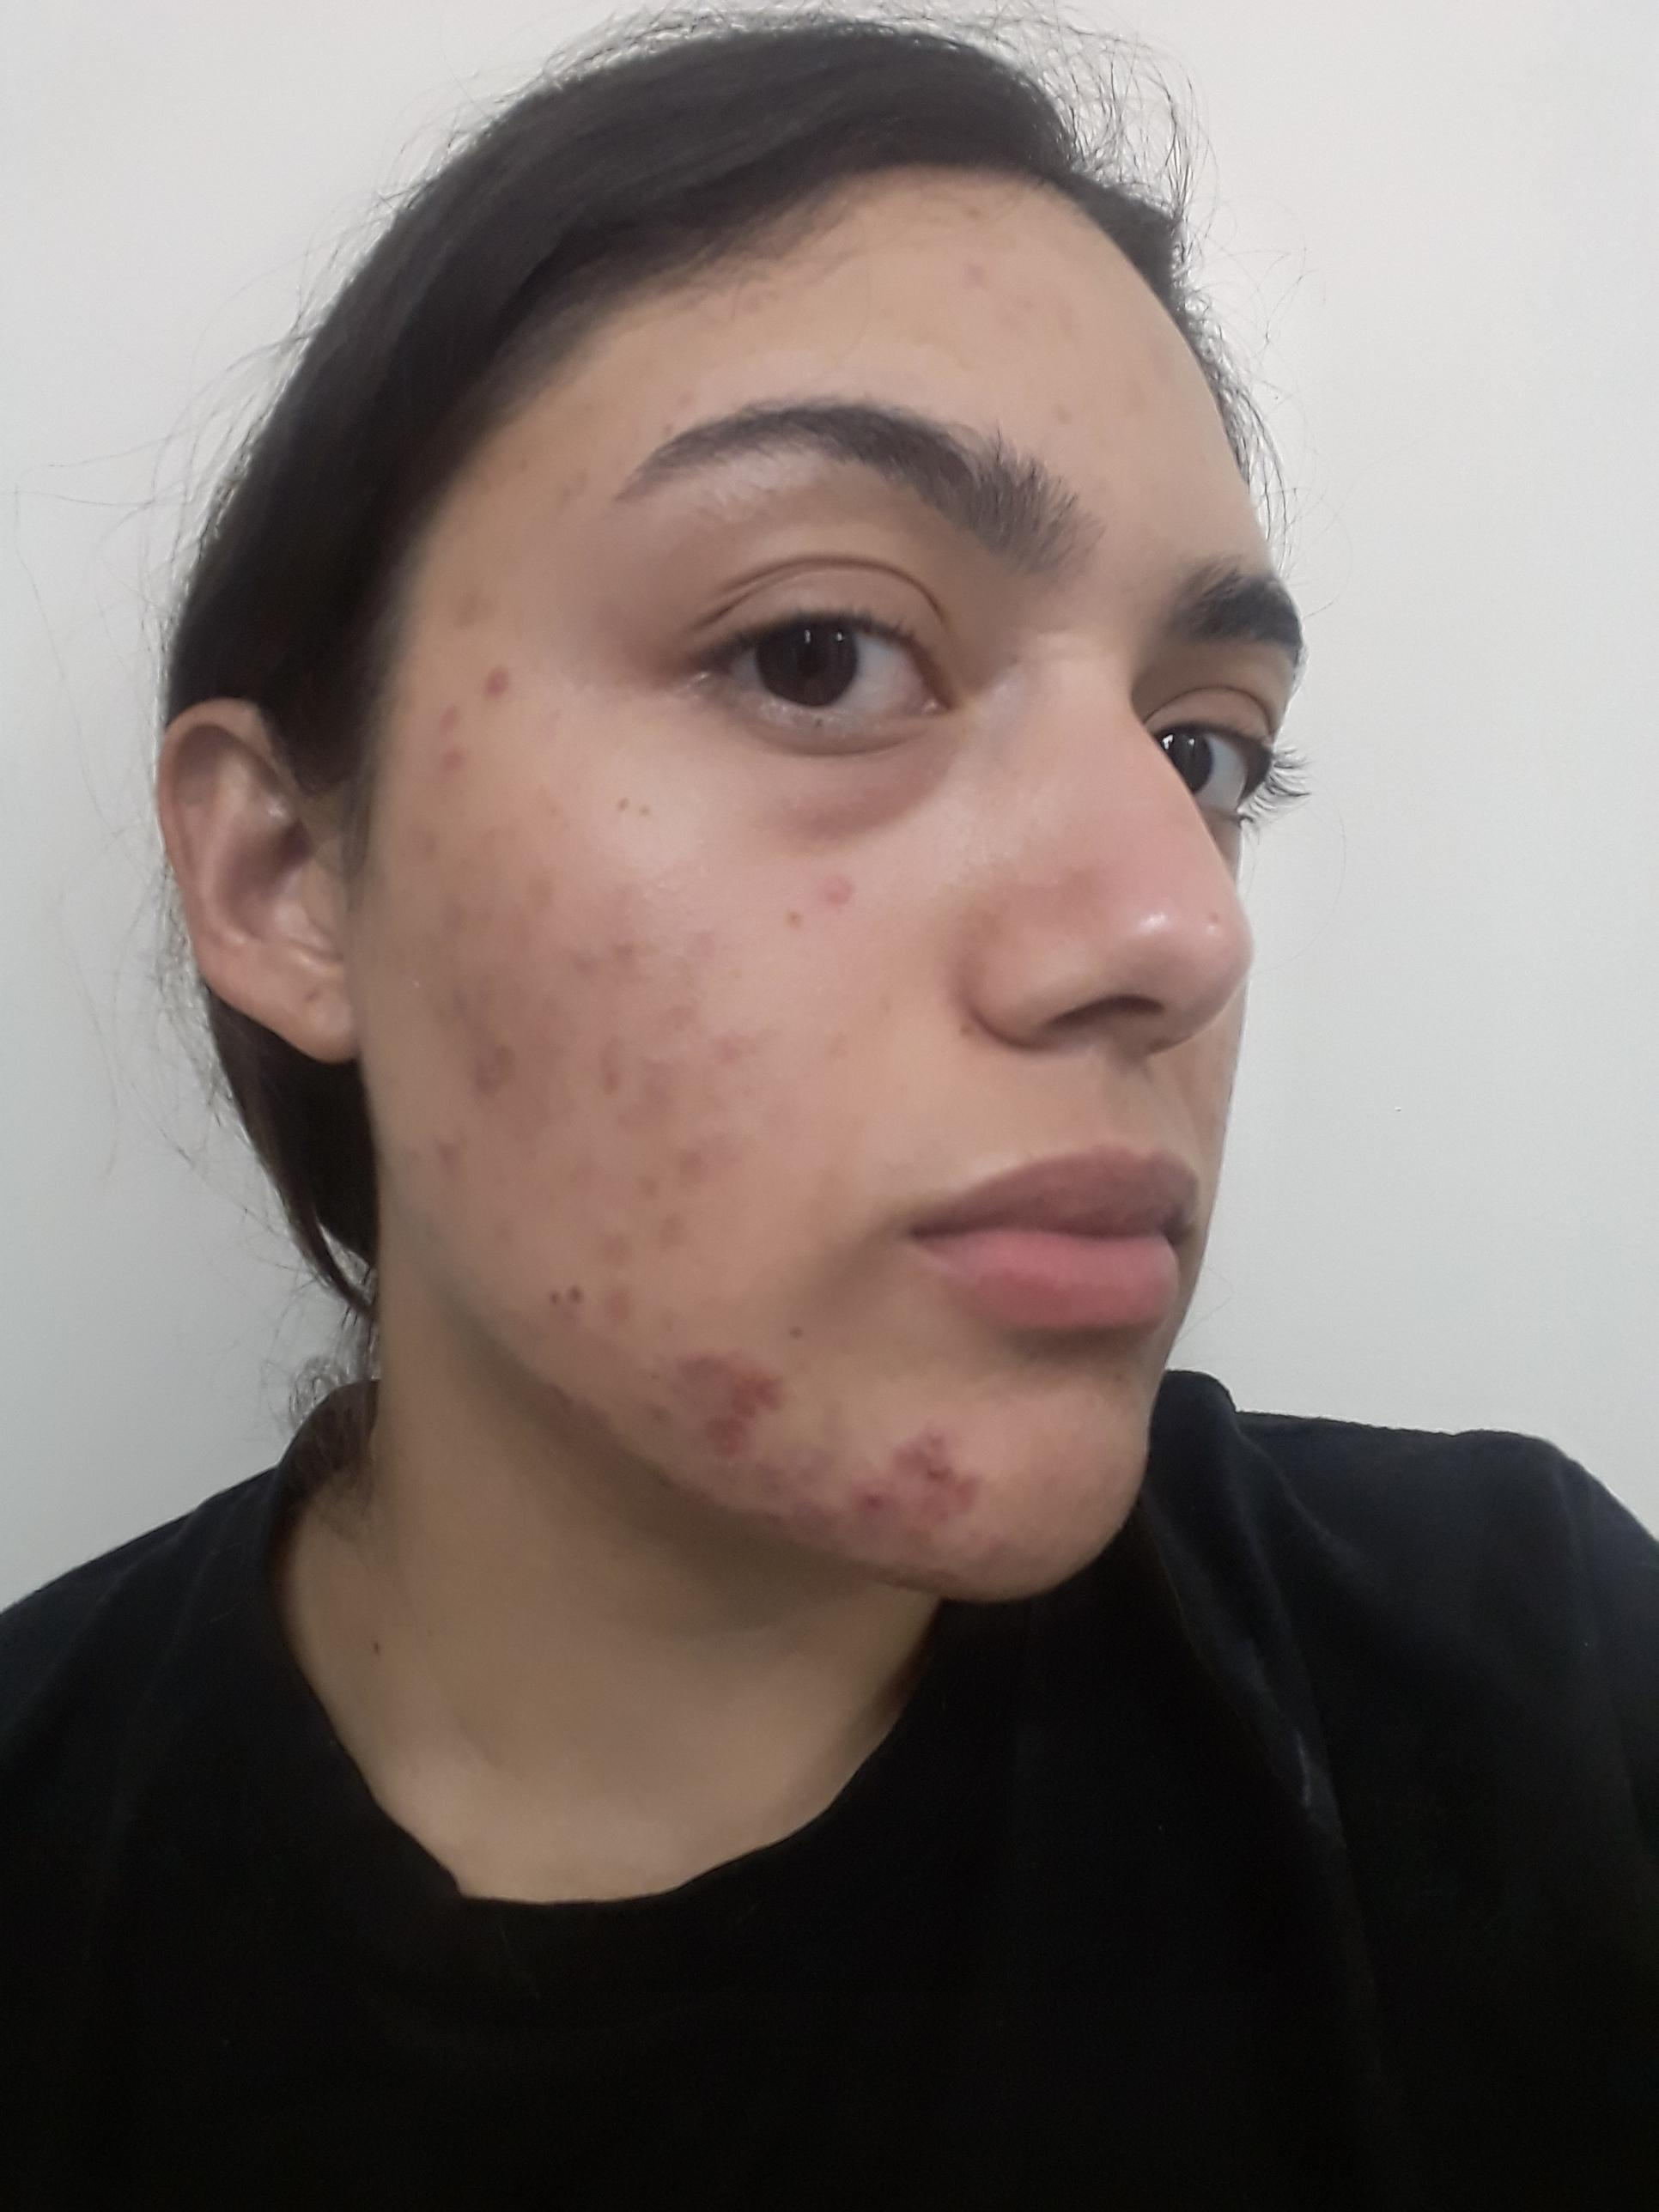Acne: (678, 1350, 793, 1465), (892, 1421, 1000, 1521), (755, 1446, 856, 1541), (619, 1346, 687, 1435), (950, 1507, 1019, 1592), (423, 982, 511, 1038), (835, 1472, 910, 1529), (460, 1043, 535, 1097), (666, 1143, 734, 1200), (885, 1512, 950, 1568), (580, 1043, 641, 1101), (594, 925, 660, 972), (946, 244, 1004, 296), (1039, 385, 1089, 442), (455, 575, 507, 629), (413, 1120, 483, 1160), (816, 867, 868, 916), (653, 1214, 704, 1263), (556, 937, 603, 986), (622, 1155, 673, 1200), (594, 1224, 645, 1266), (657, 996, 708, 1038), (479, 664, 525, 707), (526, 874, 565, 925), (598, 1285, 648, 1322), (430, 897, 474, 937), (430, 744, 483, 775), (709, 1031, 753, 1064), (772, 907, 812, 935), (430, 700, 465, 723)
